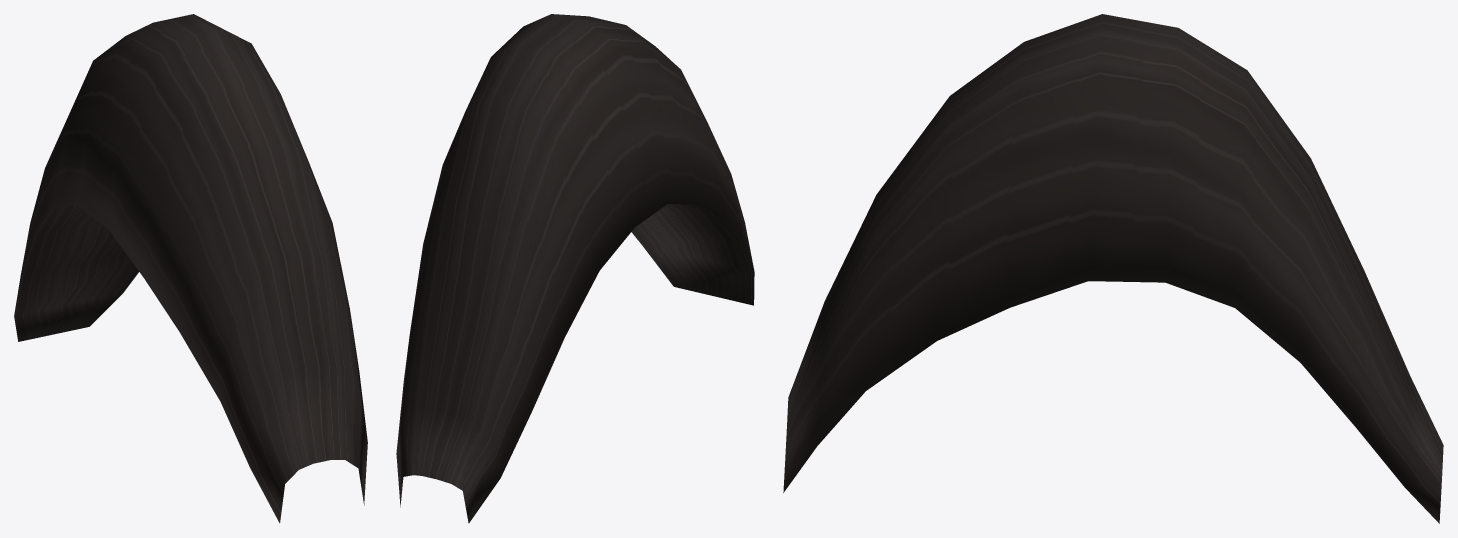
The model's file is hair_mohawk_v02.glb.
3 views of the same model, side by side, from view 1: azimuth 30°, elevation 25°; view 2: azimuth 150°, elevation 25°; view 3: azimuth 270°, elevation 25° (orthographic). The views are drawn at different scales.
Parts seen in each view (by area): view 1: hair_mohawk_v02; view 2: hair_mohawk_v02; view 3: hair_mohawk_v02.
Boxes of the visible parts, x1,y1,x2,y2 form: hair_mohawk_v02: [14, 14, 367, 523]; hair_mohawk_v02: [396, 14, 754, 523]; hair_mohawk_v02: [783, 14, 1443, 523].
Size of the model in its own units: 0.0885 by 0.1862 by 0.2321.
1 material, 1 textured.
